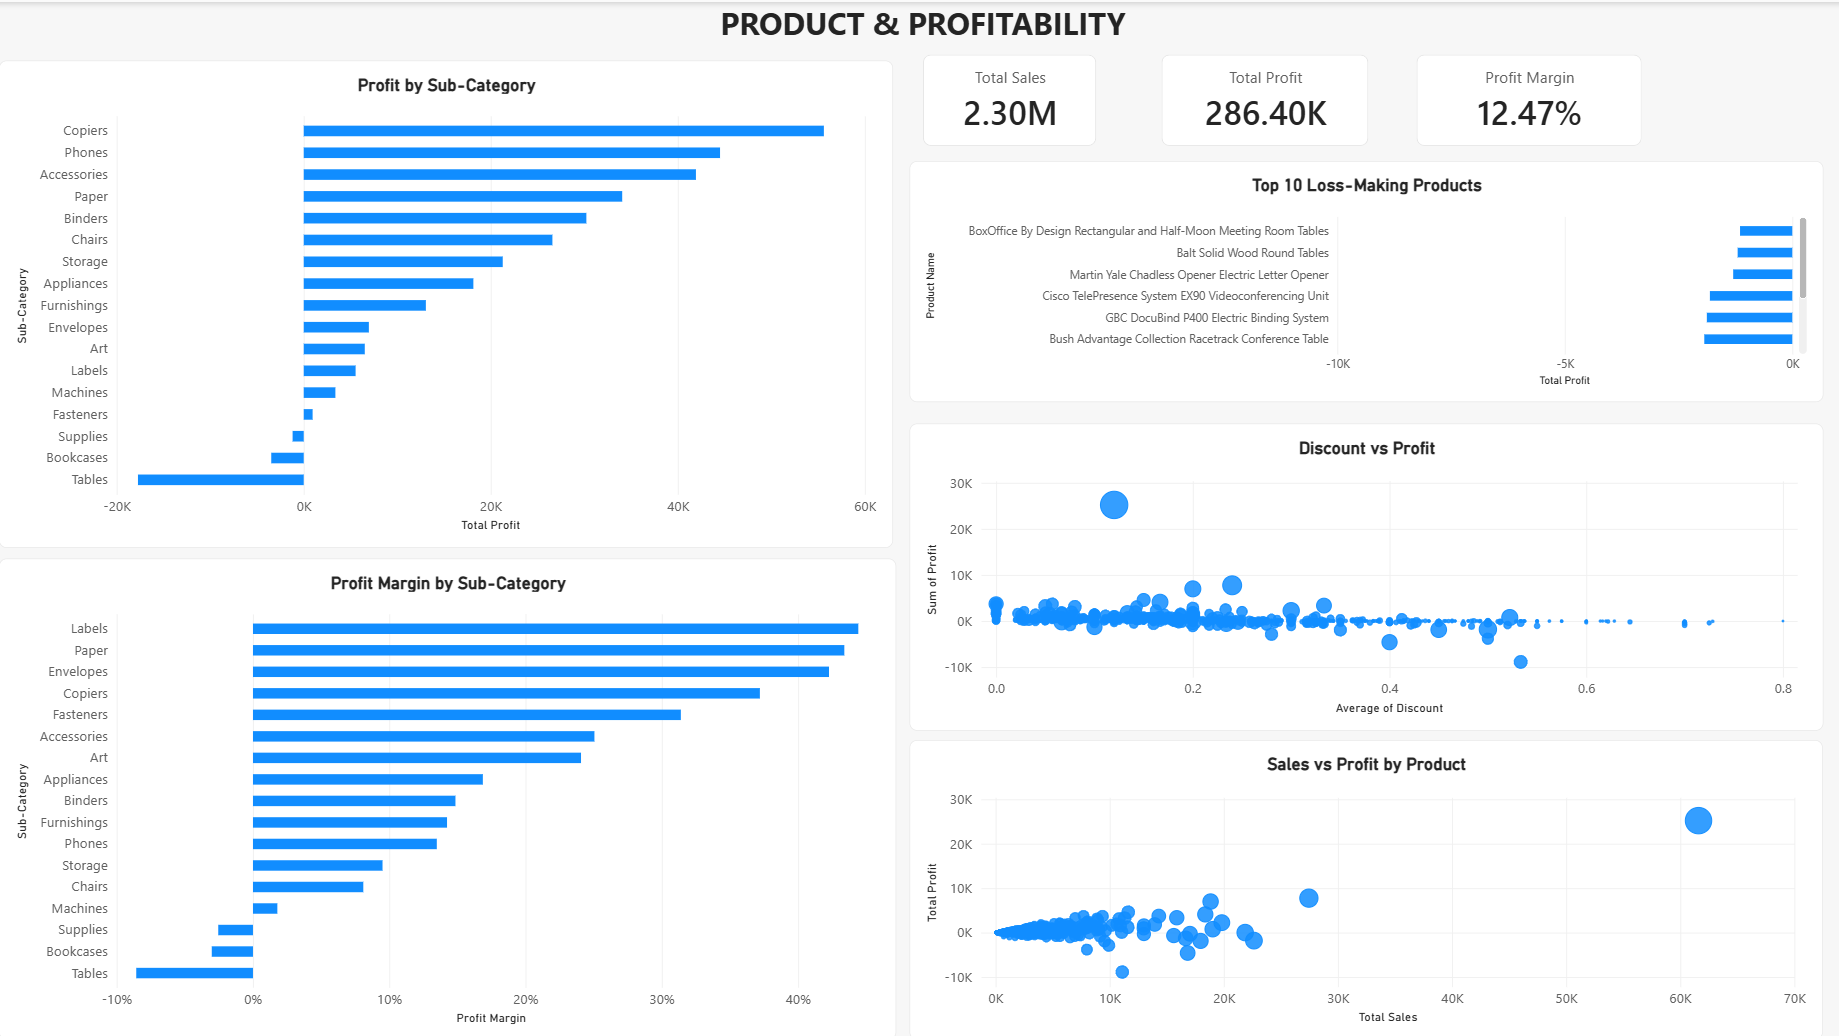

The page's visual inventory and layout, read from the dashboard file:
{"tool":"powerbi","page":{"name":"Product & Profitability","canvas":[1920,1080],"ordinal":1},"visuals":[{"type":"clusteredBarChart","title":"Profit by Sub-Category","fields":{"Category":["Superstore_Cleaned.Sub-Category"],"Y":["Superstore_Cleaned.Total Profit"]},"box":[0,60.1,929.4,506.8],"z":0},{"type":"scatterChart","title":"Discount vs Profit","fields":{"X":["Avg(Superstore_Cleaned.Discount)"],"Y":["Sum(Superstore_Cleaned.Profit)"],"Size":["Sum(Superstore_Cleaned.Sales)"],"Category":["Superstore_Cleaned.Product Name"]},"box":[946.6,438.1,950,319.5],"z":1000},{"type":"clusteredBarChart","title":"Top 10 Loss-Making Products","fields":{"Category":["Superstore_Cleaned.Product Name"],"Y":["Superstore_Cleaned.Total Profit"]},"box":[946.6,164.9,950,250.8],"z":2000},{"type":"scatterChart","title":"Sales vs Profit by Product","fields":{"X":["Superstore_Cleaned.Total Sales"],"Y":["Superstore_Cleaned.Total Profit"],"Category":["Superstore_Cleaned.Product Name"],"Size":["Superstore_Cleaned.Total Sales"]},"box":[945.7,767.2,949.1,312.4],"z":3000},{"type":"cardVisual","fields":{"Data":["Superstore_Cleaned.Total Sales"]},"box":[960.3,55,180.8,95.6],"z":4000},{"type":"cardVisual","fields":{"Data":["Superstore_Cleaned.Total Profit"]},"box":[1207.7,55,215.5,95.6],"z":5000},{"type":"cardVisual","fields":{"Data":["Superstore_Cleaned.Profit Margin"]},"box":[1473.9,55,234.6,95.6],"z":6000},{"type":"clusteredBarChart","title":"Profit Margin by Sub-Category","fields":{"Category":["Superstore_Cleaned.Sub-Category"],"Y":["Superstore_Cleaned.Profit Margin"]},"box":[0,578.9,932.8,501.6],"z":7000},{"type":"textbox","box":[0,0,1920.6,55],"z":7001}]}

Visuals, with their boxes in screenshot pixels (x1, y1, x2, y2), scaled from the page's 1920x1080 canvas onto the 1839x1036 screenshot:
"Profit by Sub-Category" clusteredBarChart: 0/58/890/544
"Discount vs Profit" scatterChart: 907/420/1817/727
"Top 10 Loss-Making Products" clusteredBarChart: 907/158/1817/399
"Sales vs Profit by Product" scatterChart: 906/736/1815/1035
cardVisual - Superstore_Cleaned.Total Sales: 920/53/1093/144
cardVisual - Superstore_Cleaned.Total Profit: 1157/53/1363/144
cardVisual - Superstore_Cleaned.Profit Margin: 1412/53/1636/144
"Profit Margin by Sub-Category" clusteredBarChart: 0/555/893/1035
textbox: 0/0/1838/53
